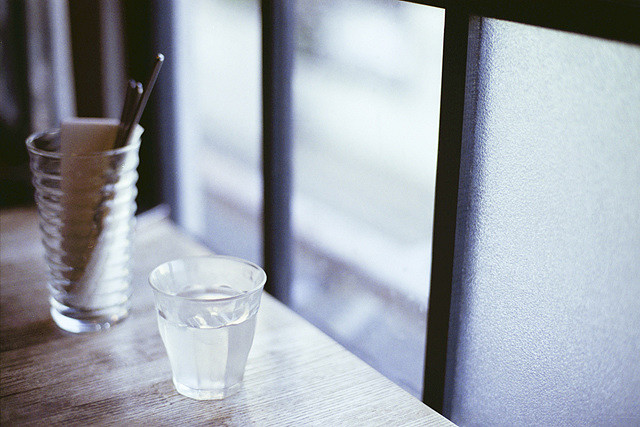glass of water: (148, 254, 269, 405)
